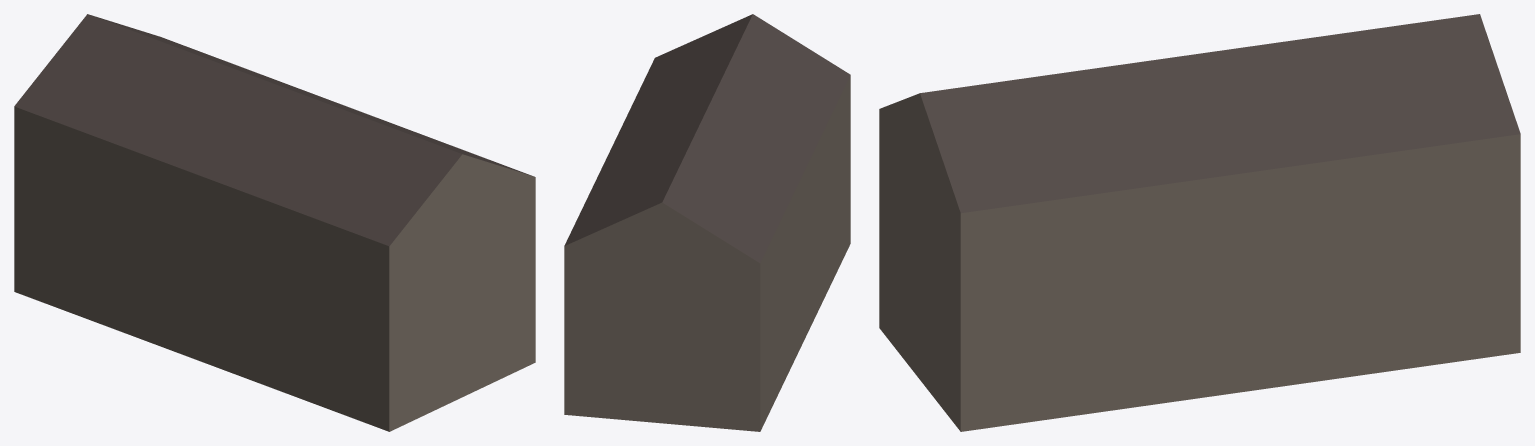
The picture shows the model from 3 angles, left to right: view 1: azimuth 30°, elevation 25°; view 2: azimuth 150°, elevation 25°; view 3: azimuth 270°, elevation 25°; orthographic projection. The views are drawn at different scales.
Visible parts, largest first — view 1: HP-w859457361; view 2: HP-w859457361; view 3: HP-w859457361.
Part boxes in pixels (left/top/right/bottom): HP-w859457361: left=14, top=14, right=535, bottom=431; HP-w859457361: left=564, top=14, right=850, bottom=431; HP-w859457361: left=879, top=14, right=1520, bottom=431.
Size of the model in its own units: 10.8 by 7.87 by 15.95.
